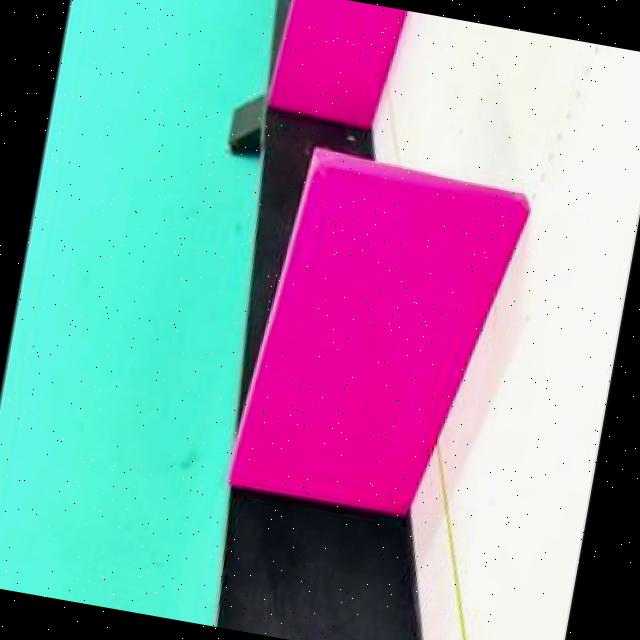xparking: (268, 164, 518, 510), (276, 0, 402, 112)
